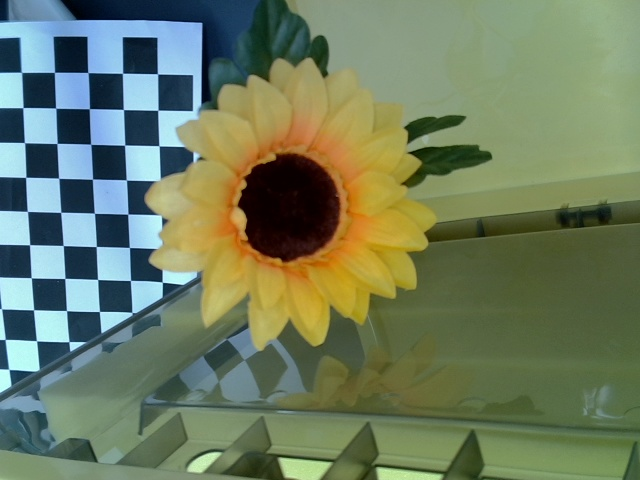해바라기: (142, 56, 429, 349)
